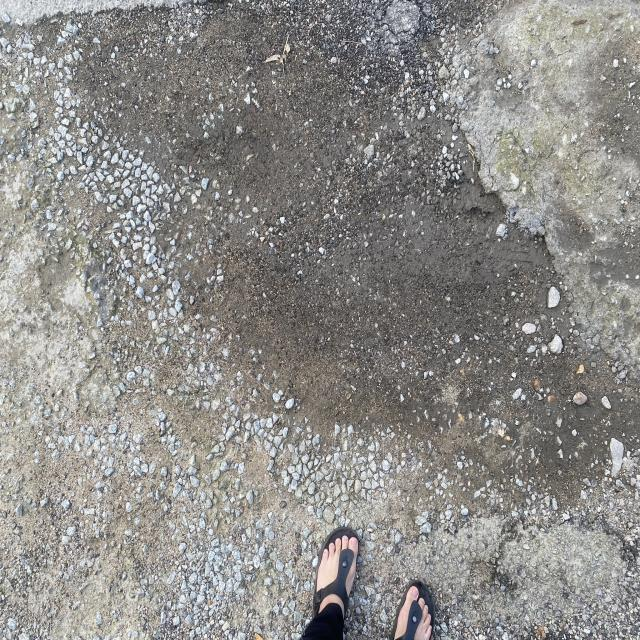Pothole: (392, 96, 613, 359)
